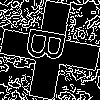B: (25, 25, 76, 66)
